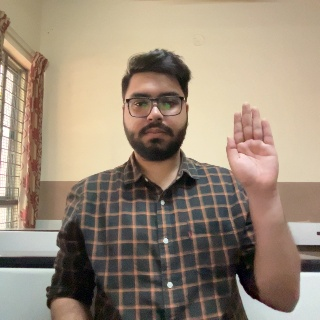Face: (122, 56, 190, 161)
Hello: (225, 100, 286, 204)
